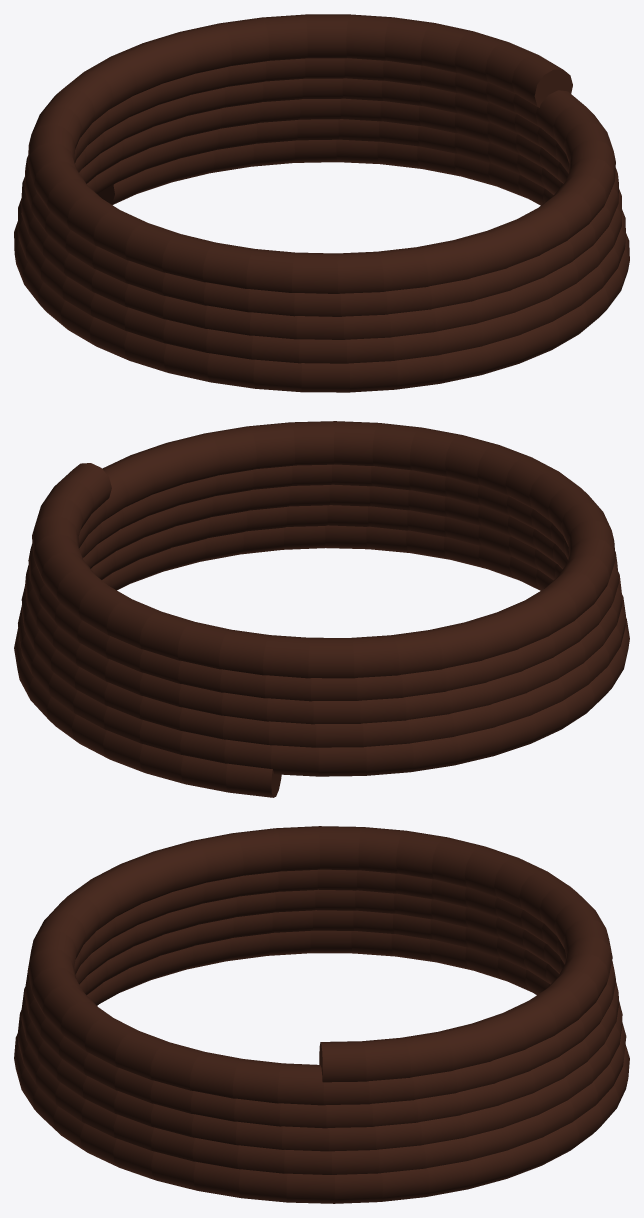
Rendered from Heist Rope.FBX.
The picture shows the model from 3 angles, top to bottom: view 1: azimuth 30°, elevation 25°; view 2: azimuth 150°, elevation 25°; view 3: azimuth 270°, elevation 25°; orthographic projection.
Visible parts, largest first — view 1: Helix004; view 2: Helix004; view 3: Helix004.
Part boxes in pixels (x1,y1,x2,y2): Helix004: [14, 14, 629, 392]; Helix004: [14, 421, 629, 797]; Helix004: [14, 826, 629, 1203].
Bounding box in the file's own units: 0.265 × 0.0748 × 0.2657.
